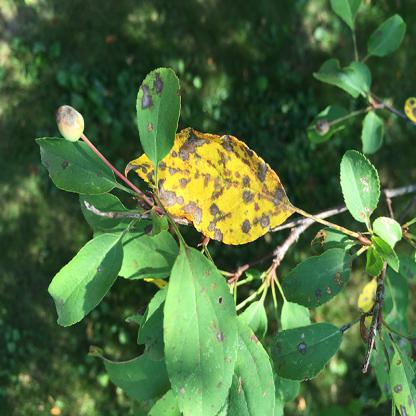apple scab leaf: (133, 128, 308, 246), (161, 244, 239, 415), (30, 129, 121, 204), (270, 315, 349, 388), (277, 236, 357, 306), (134, 67, 184, 177)
